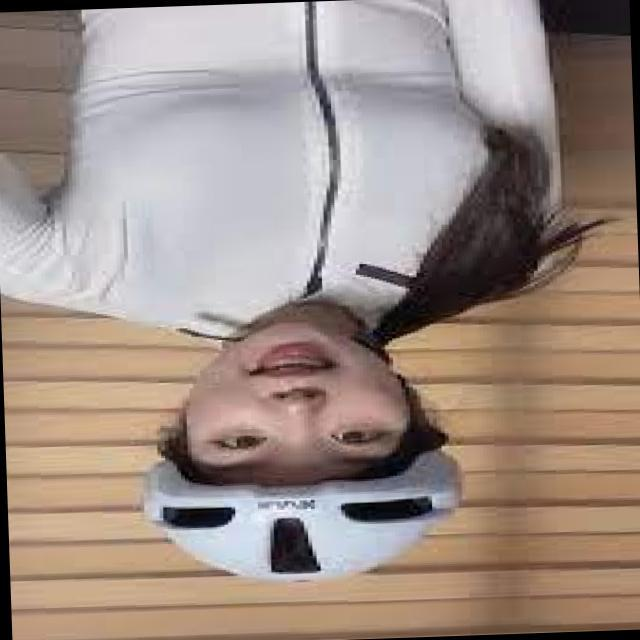WITH_HELMET: (108, 448, 494, 594)
